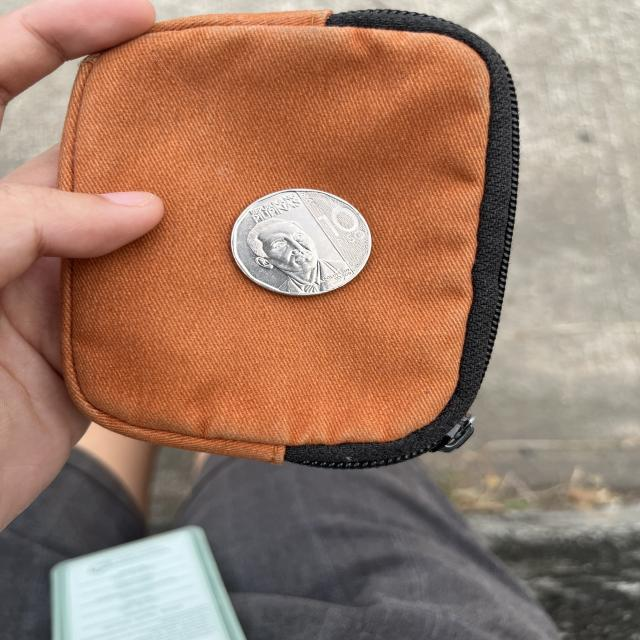10_New_Front: (311, 202, 377, 254)
